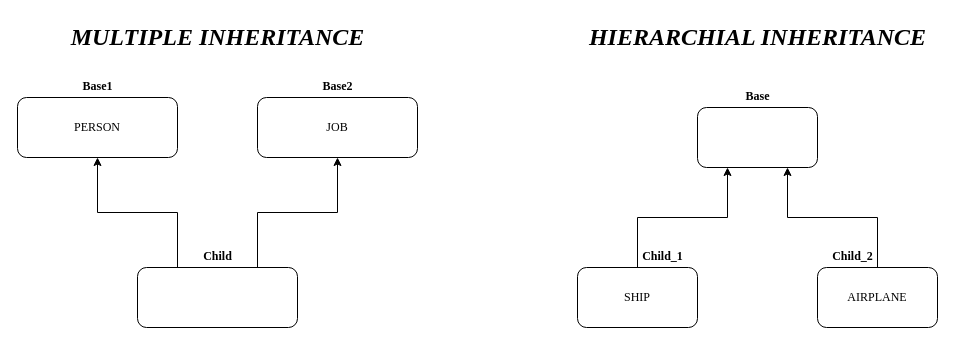
The diagram is 955 pixels wide and 345 high, and some of its shapes have lost their labels. Here are the shapes that lost their labels. From the top down, the centre of each, then its label:
At point 757,137: "VEHICLE".
At point 217,297: "DRIVER".
